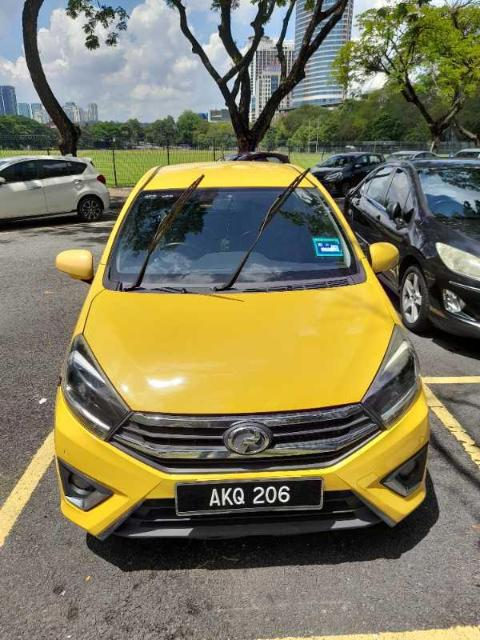License_Plate: (175, 477, 325, 517)
car: (53, 154, 431, 542), (1, 156, 111, 226)
